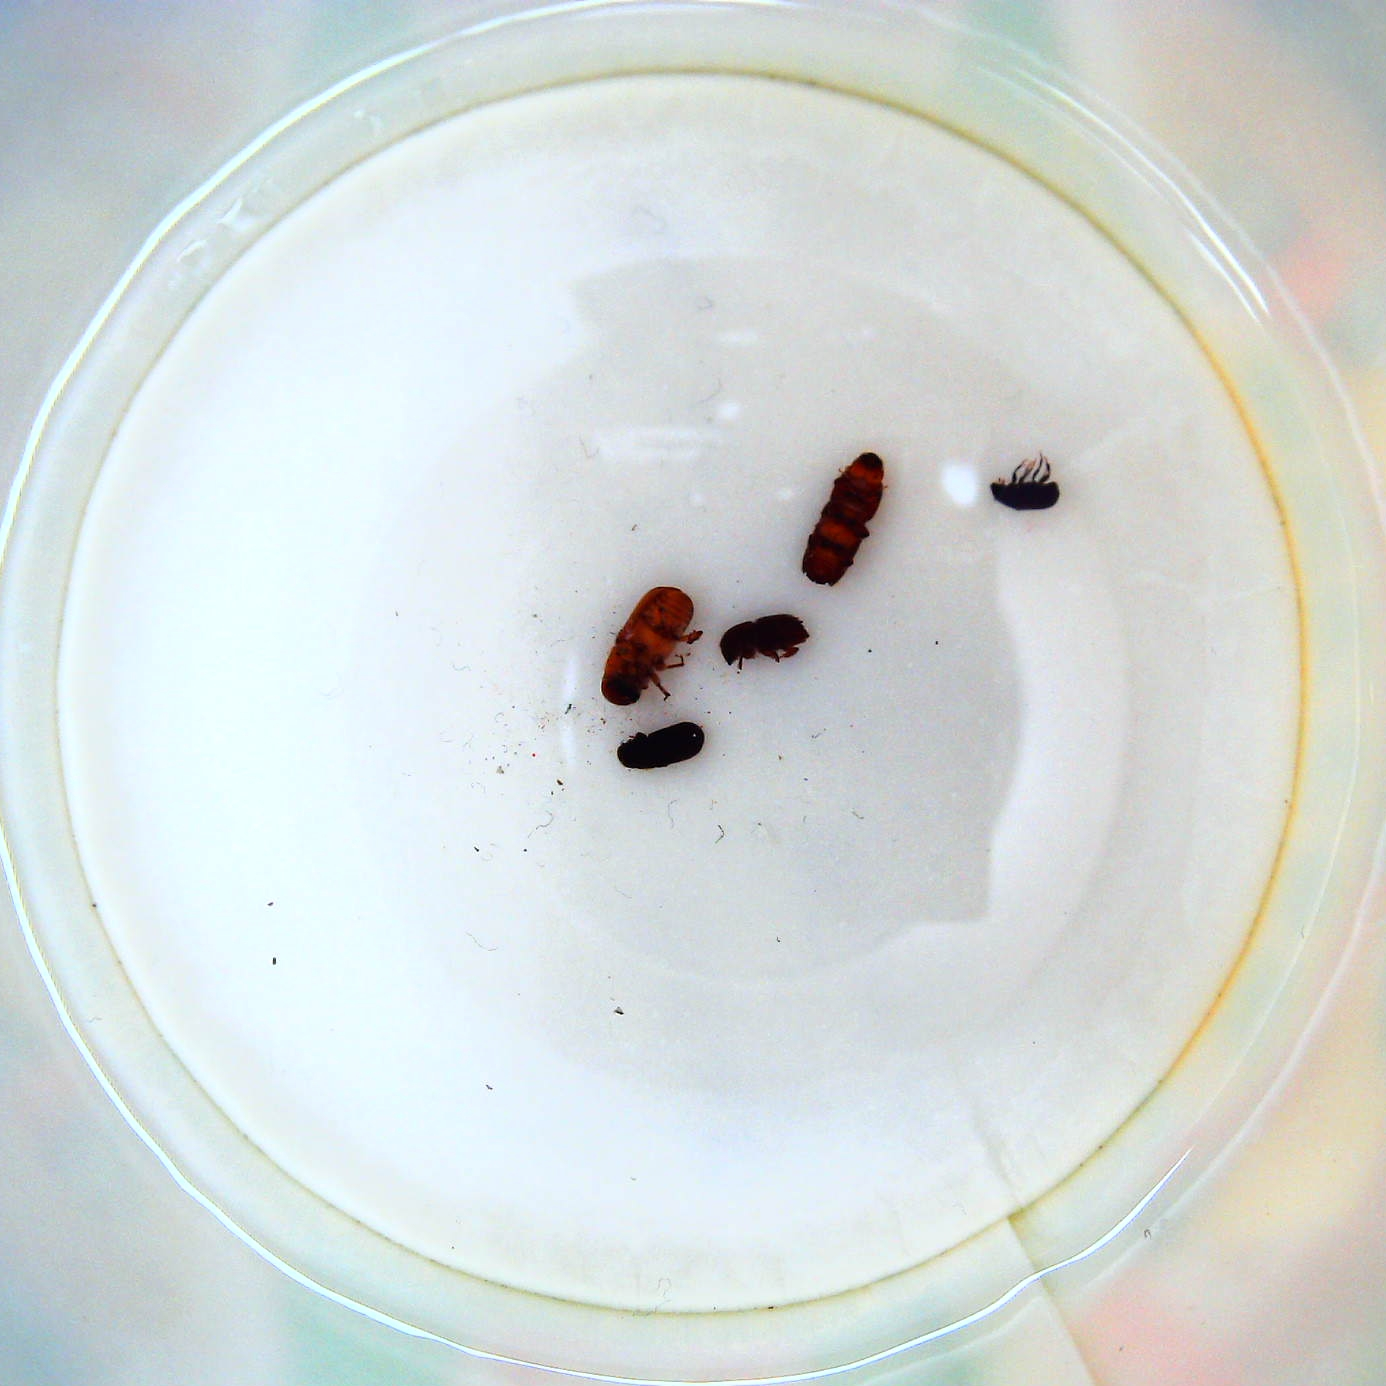Boerner: (798, 448, 890, 595)
Leconte: (593, 583, 708, 712)
armandi: (612, 722, 709, 781)
coleoptera: (982, 439, 1071, 519)
linnaeus: (713, 610, 810, 675)
